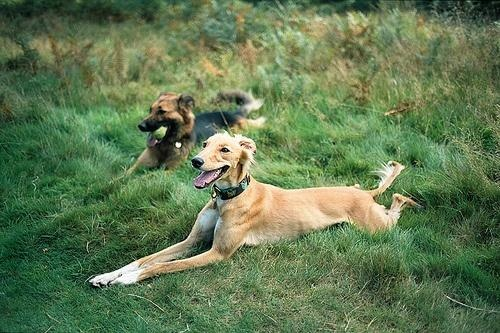dog: (92, 134, 417, 290), (118, 89, 263, 181)
